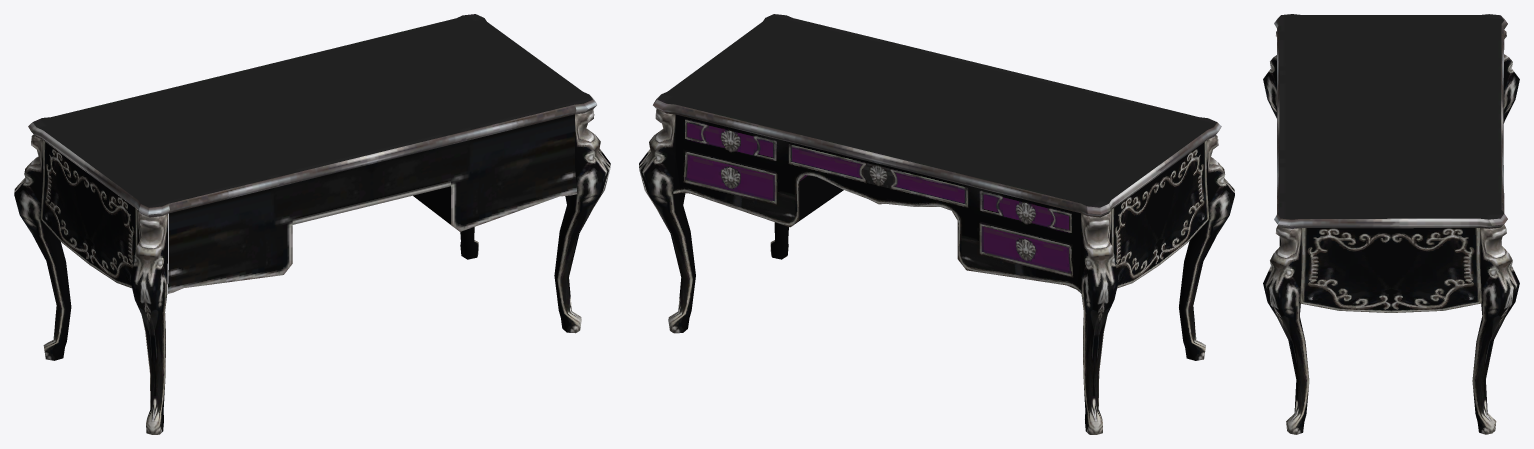
Rendered from furni_0201213_02.FBX.
The picture shows the model from 3 angles, left to right: view 1: azimuth 30°, elevation 25°; view 2: azimuth 150°, elevation 25°; view 3: azimuth 270°, elevation 25°; orthographic projection. The views are drawn at different scales.
Parts seen in each view (by area): view 1: furni_0201213_02; view 2: furni_0201213_02; view 3: furni_0201213_02.
Part boxes in pixels (x1=…): furni_0201213_02: x1=14, y1=14, x2=610, y2=434; furni_0201213_02: x1=639, y1=14, x2=1234, y2=434; furni_0201213_02: x1=1263, y1=14, x2=1519, y2=434.
Size of the model in its own units: 173 by 79.92 by 85.08.
